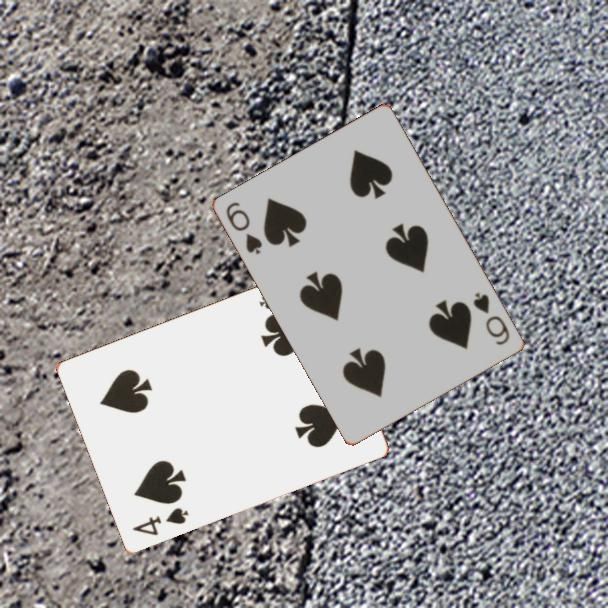s04: (129, 503, 192, 538)
s06: (470, 288, 513, 348), (223, 198, 266, 258)
